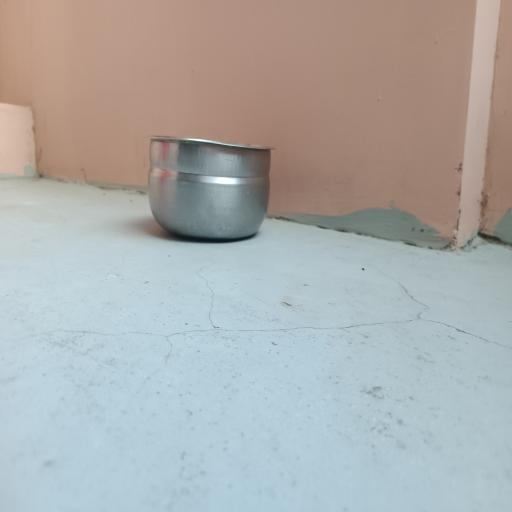vessel: (148, 137, 271, 239)
